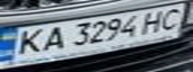2: (90, 18, 112, 46)
3: (66, 20, 93, 48)
4: (118, 12, 145, 39)
9: (103, 16, 127, 43)
A: (36, 24, 69, 53)
C: (154, 6, 190, 33)
H: (136, 8, 172, 35)
K: (6, 26, 51, 56)
